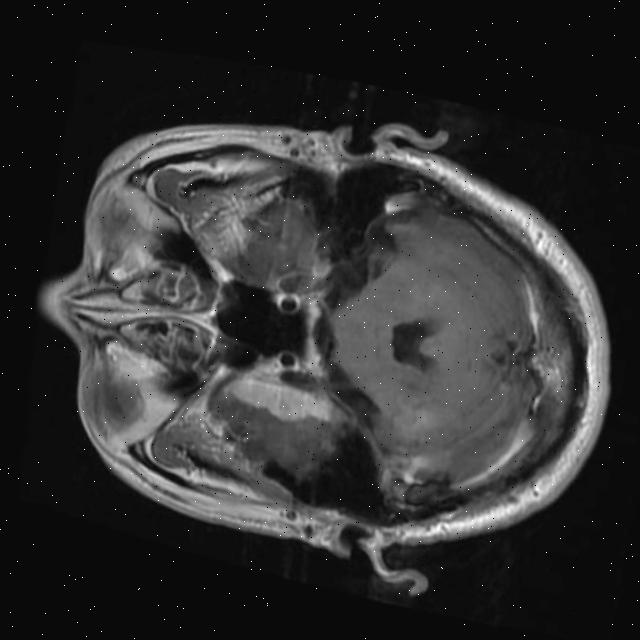Meningioma: (217, 365, 342, 433)
